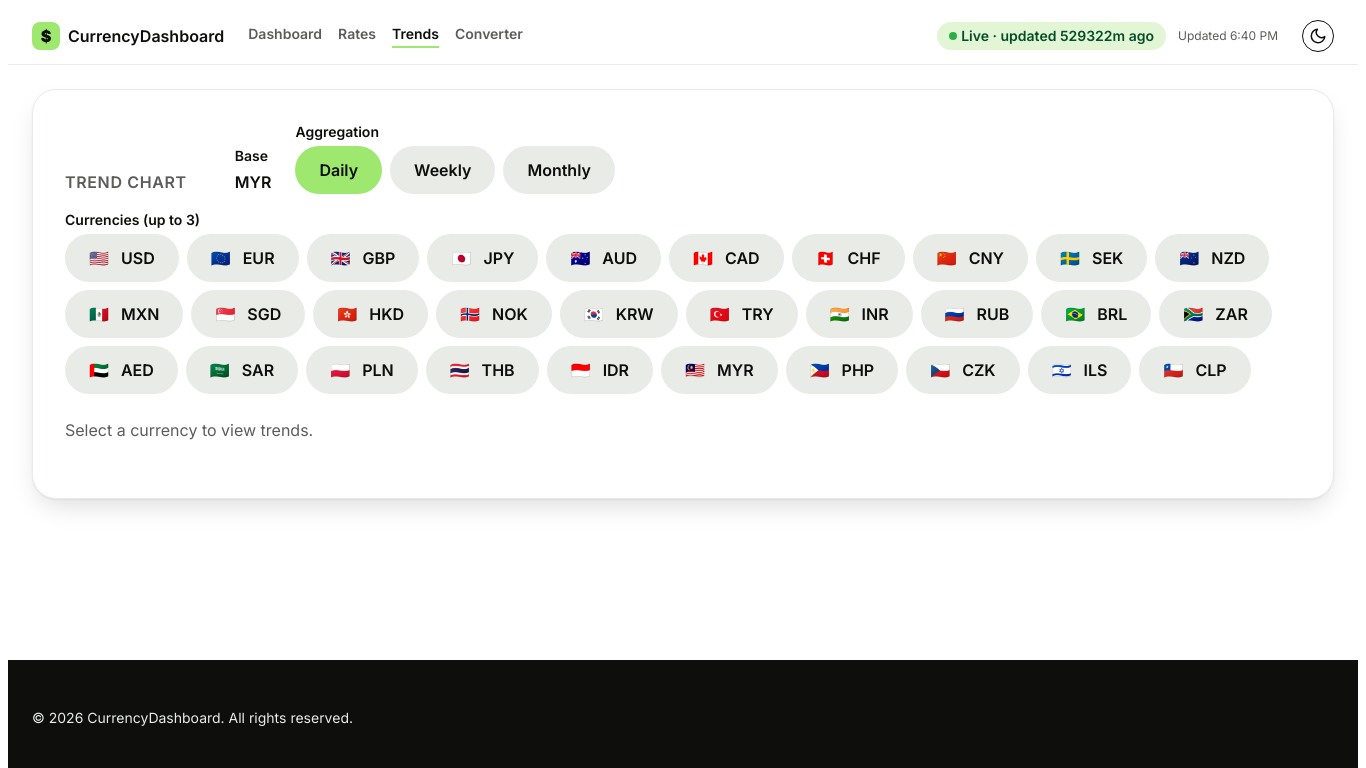
Test: Trends › shows max-selection hint at limit
Click the element with test id "currency-EUR" at (243, 258), box x1=187 y1=234 x2=299 y2=282
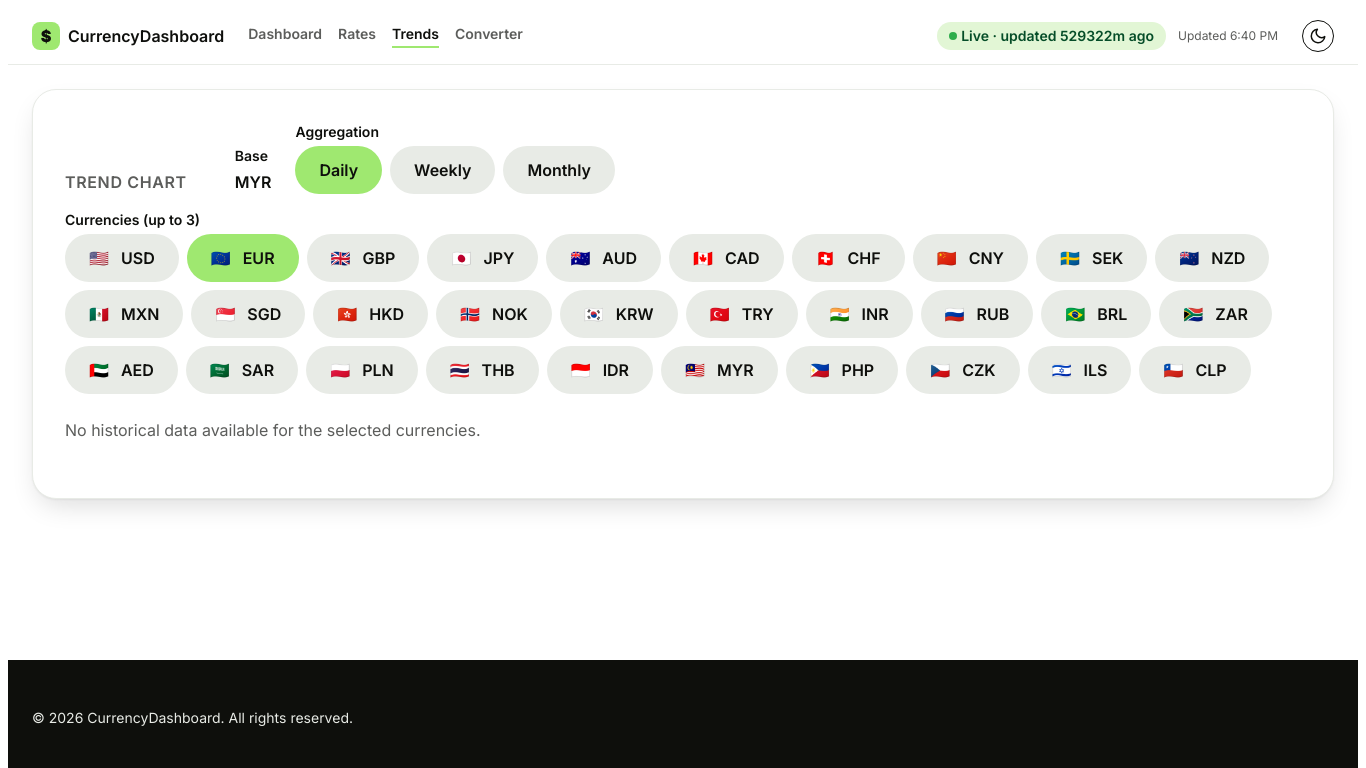
Click the element with test id "currency-GBP" at (364, 258), box x1=307 y1=234 x2=420 y2=282
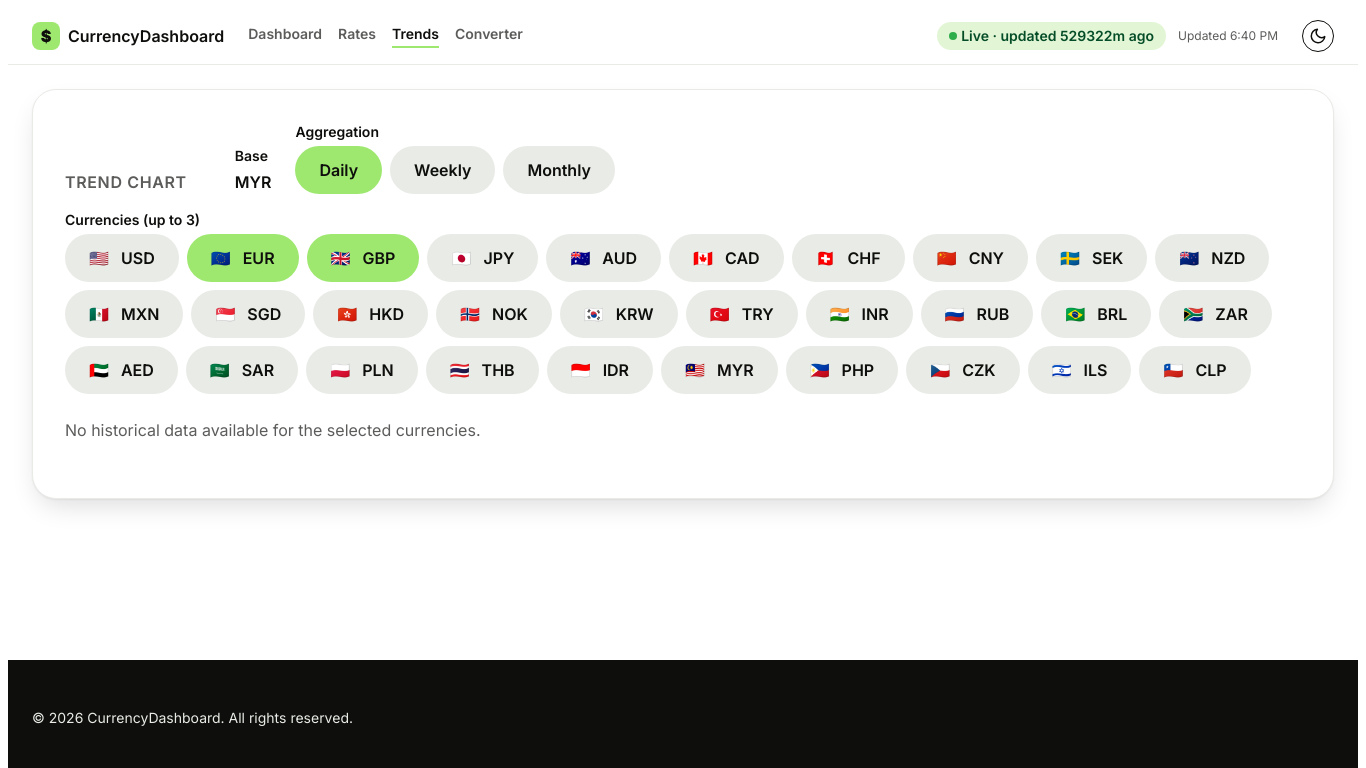
Click the element with test id "currency-JPY" at (483, 258), box x1=427 y1=234 x2=538 y2=282
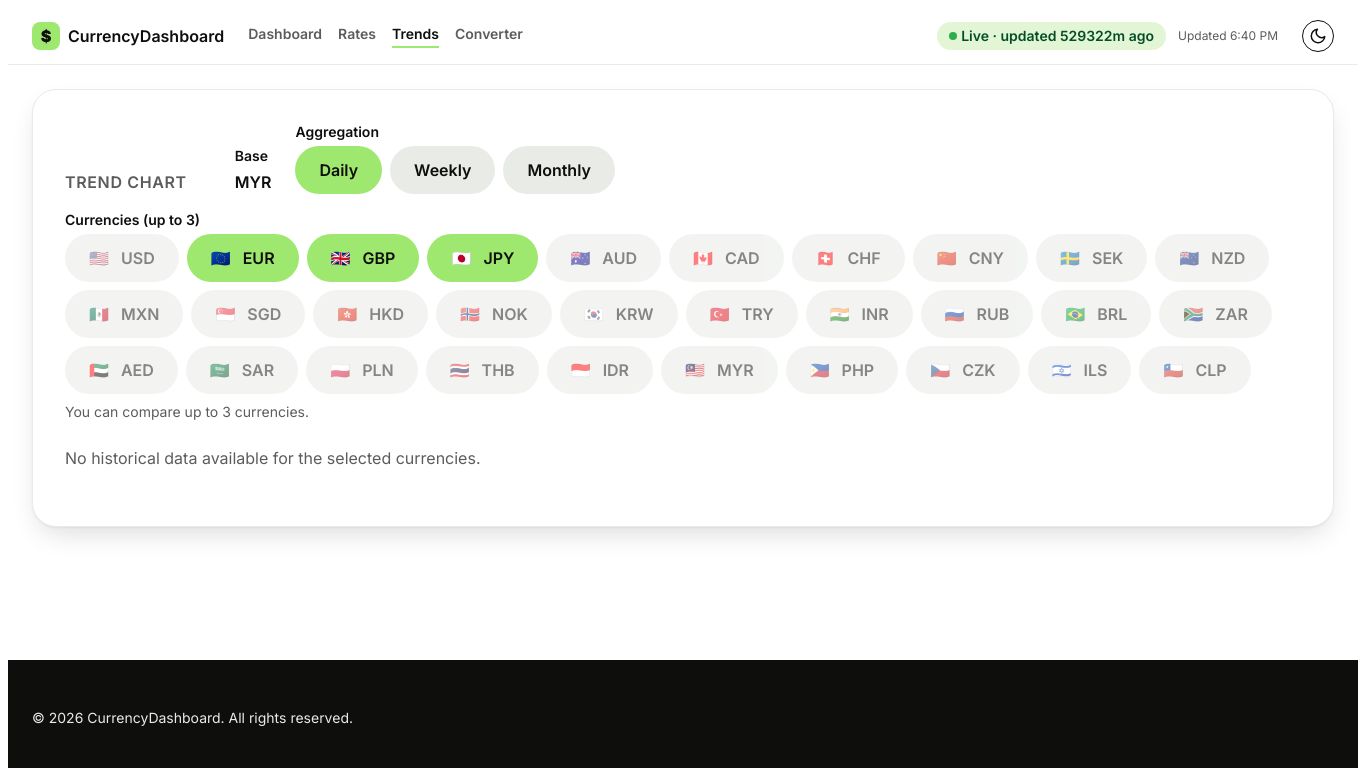
Expected: the text with class "trends__hint" shows "up to 3 currencies", x1=65 y1=403 x2=309 y2=420
Expected: the button "🇦🇺 AUD" is disabled, x1=546 y1=234 x2=661 y2=282
